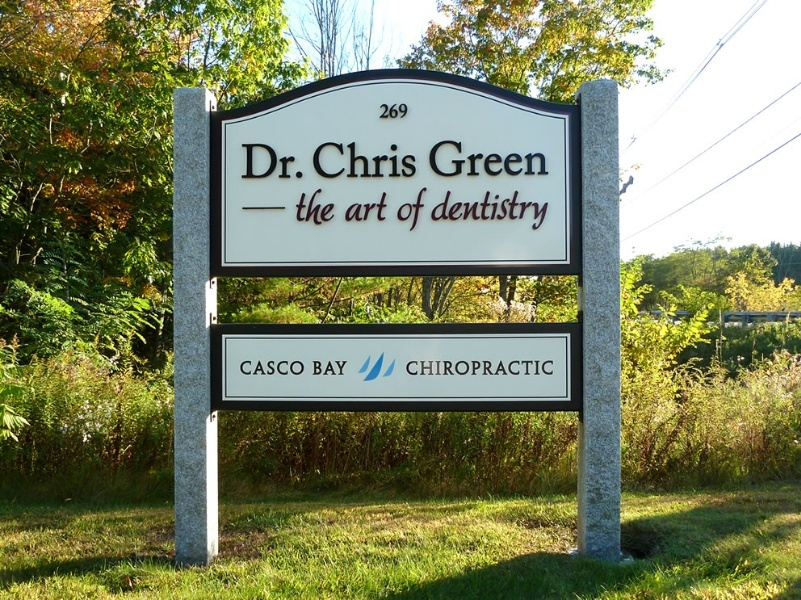text: (401, 187, 416, 232), (433, 190, 448, 231), (449, 190, 464, 231), (465, 190, 480, 231), (481, 190, 496, 231), (497, 190, 512, 231), (513, 190, 528, 231), (529, 190, 544, 231), (401, 142, 417, 179), (305, 188, 320, 227), (321, 188, 336, 227), (433, 139, 448, 177), (449, 139, 464, 177), (465, 139, 480, 177), (481, 139, 496, 177), (497, 139, 512, 177), (513, 139, 528, 177), (529, 139, 544, 177), (321, 142, 336, 179), (337, 142, 352, 179), (353, 142, 368, 179), (369, 142, 384, 179), (385, 142, 400, 179), (257, 143, 272, 179), (273, 143, 288, 179), (289, 143, 304, 179), (242, 143, 256, 179), (417, 187, 428, 232), (353, 192, 368, 223), (369, 192, 384, 223), (295, 188, 304, 227), (312, 142, 320, 179), (385, 102, 400, 119), (344, 192, 352, 223), (289, 361, 305, 376), (417, 360, 432, 376), (433, 360, 448, 376), (449, 360, 464, 376), (465, 360, 480, 376), (481, 360, 496, 376), (497, 360, 512, 376), (513, 360, 528, 376), (529, 360, 544, 376), (241, 361, 256, 376), (257, 361, 272, 376), (273, 361, 288, 376), (321, 361, 336, 376), (545, 190, 550, 231), (545, 139, 550, 177), (337, 361, 348, 376), (406, 360, 416, 376), (428, 139, 432, 177), (545, 360, 554, 376), (397, 187, 400, 232), (401, 102, 408, 119), (313, 361, 320, 376), (385, 192, 388, 223), (380, 102, 384, 119), (431, 190, 432, 231)
